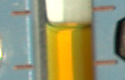border: (91, 4, 118, 13), (12, 63, 39, 71), (92, 59, 120, 66), (11, 9, 33, 17)
liquidlevel: (44, 21, 93, 30)
